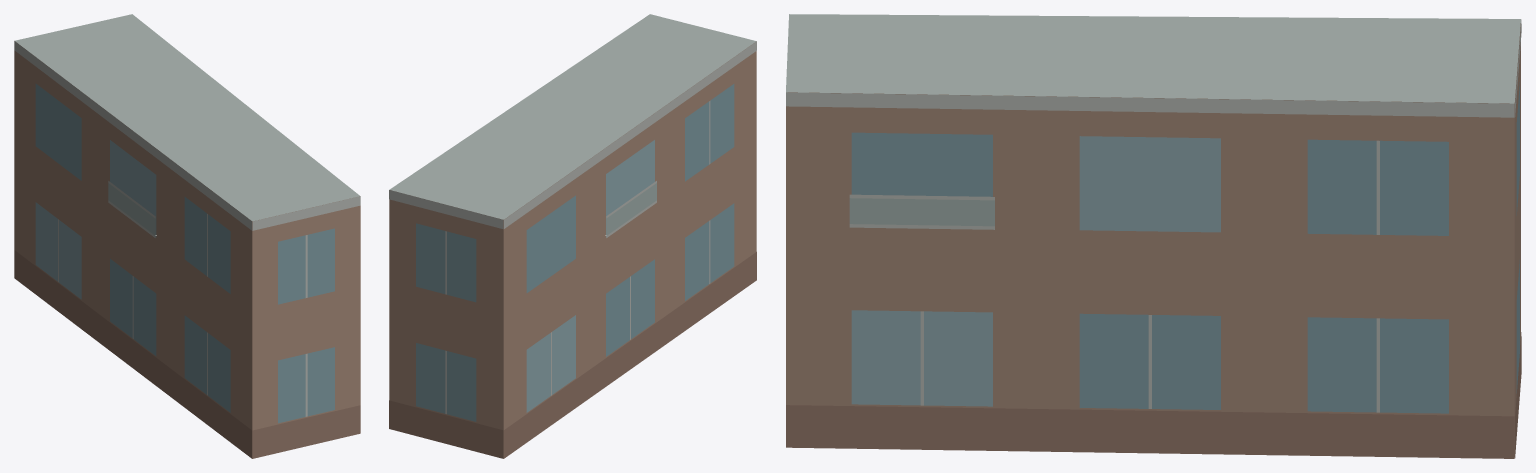
The model's file is survey-upis-32607817.glb.
3 renders of one model, left to right at view 1: azimuth 30°, elevation 25°; view 2: azimuth 150°, elevation 25°; view 3: azimuth 270°, elevation 25°, orthographic. The views are drawn at different scales.
Visible parts, largest first — view 1: survey-upis-32607817.tmp; view 2: survey-upis-32607817.tmp; view 3: survey-upis-32607817.tmp.
Boxes of the visible parts, x1,y1,x2,y2 form: survey-upis-32607817.tmp: [14, 14, 360, 458]; survey-upis-32607817.tmp: [389, 14, 756, 458]; survey-upis-32607817.tmp: [786, 14, 1521, 458].
Size of the model in its own units: 3.3 by 6.1 by 11.45.
